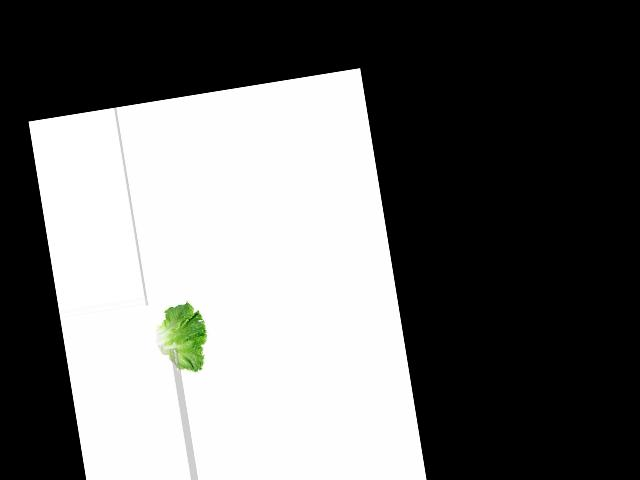lettuce: (150, 300, 211, 374)
